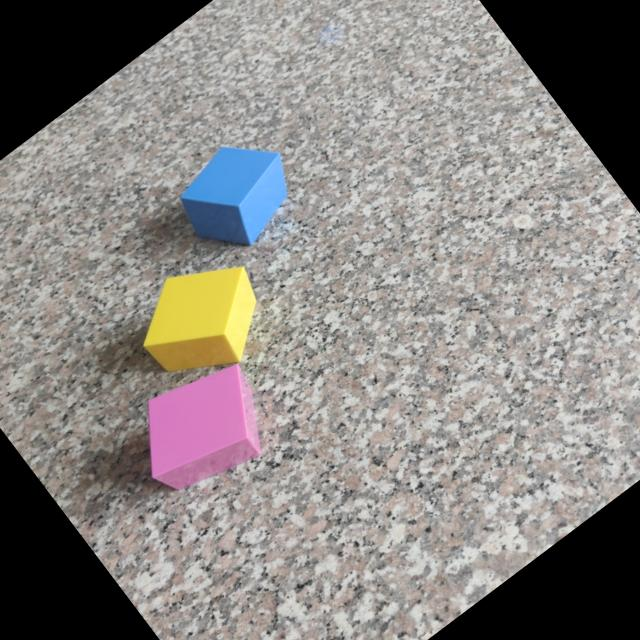blue: (182, 147, 289, 248)
pink: (149, 364, 263, 491)
yellow: (144, 268, 258, 373)
